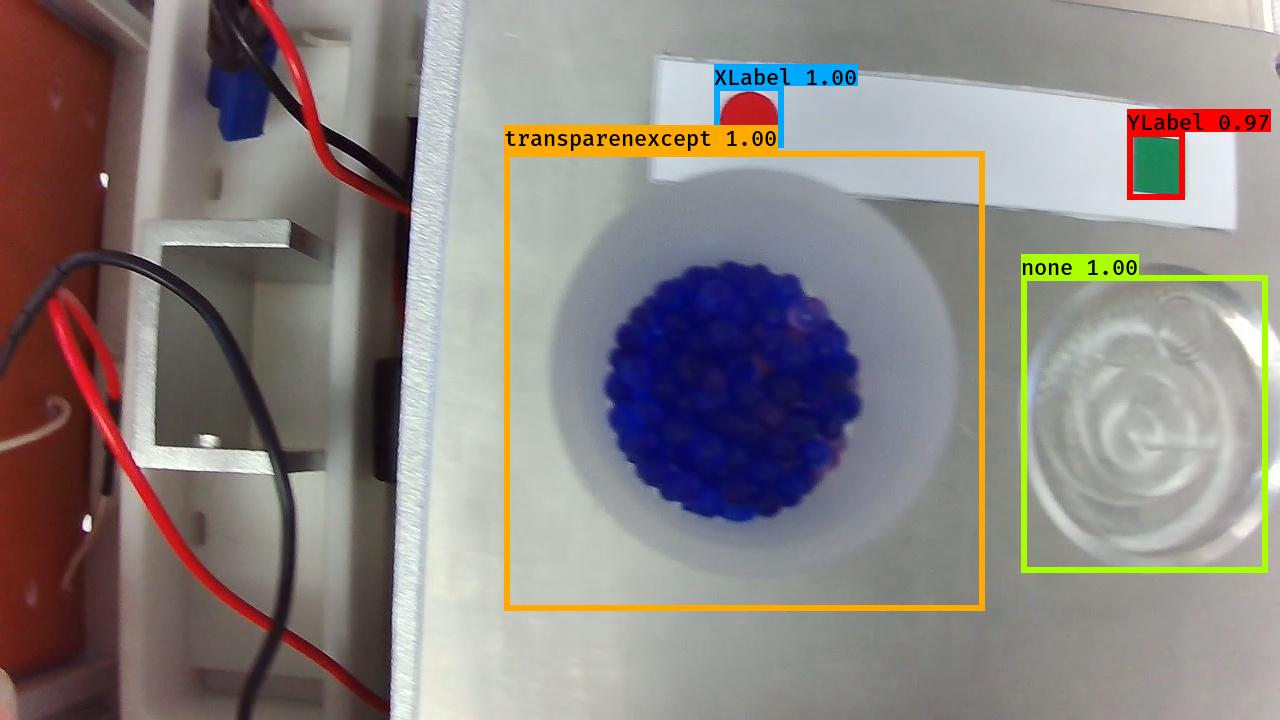XLabel: (713, 84, 780, 152)
YLabel: (1127, 129, 1191, 203)
none: (1004, 251, 1280, 580)
transparenexcept: (541, 167, 967, 582)
